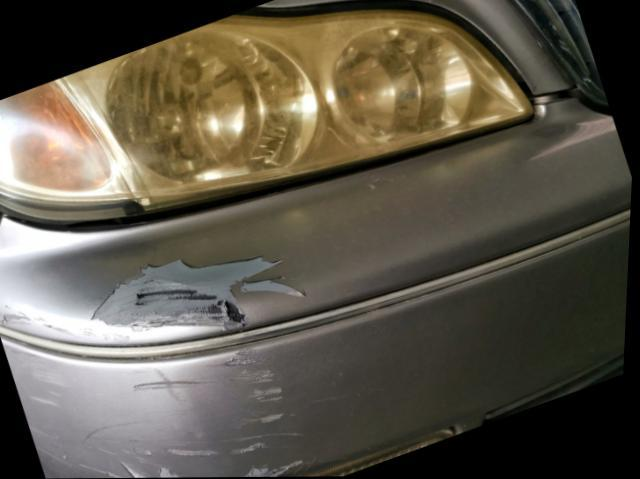scratch: (0, 251, 317, 478)
